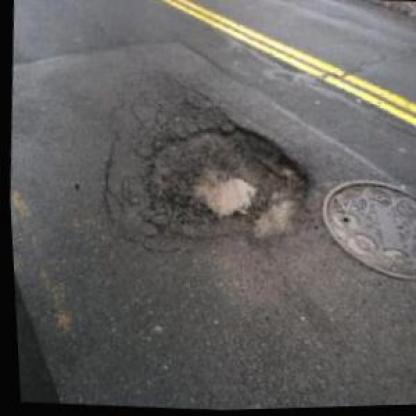pothole: (134, 114, 314, 248)
